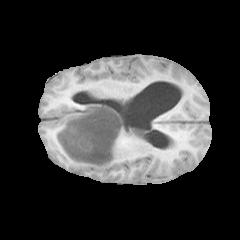glioma: (55, 104, 132, 171)
